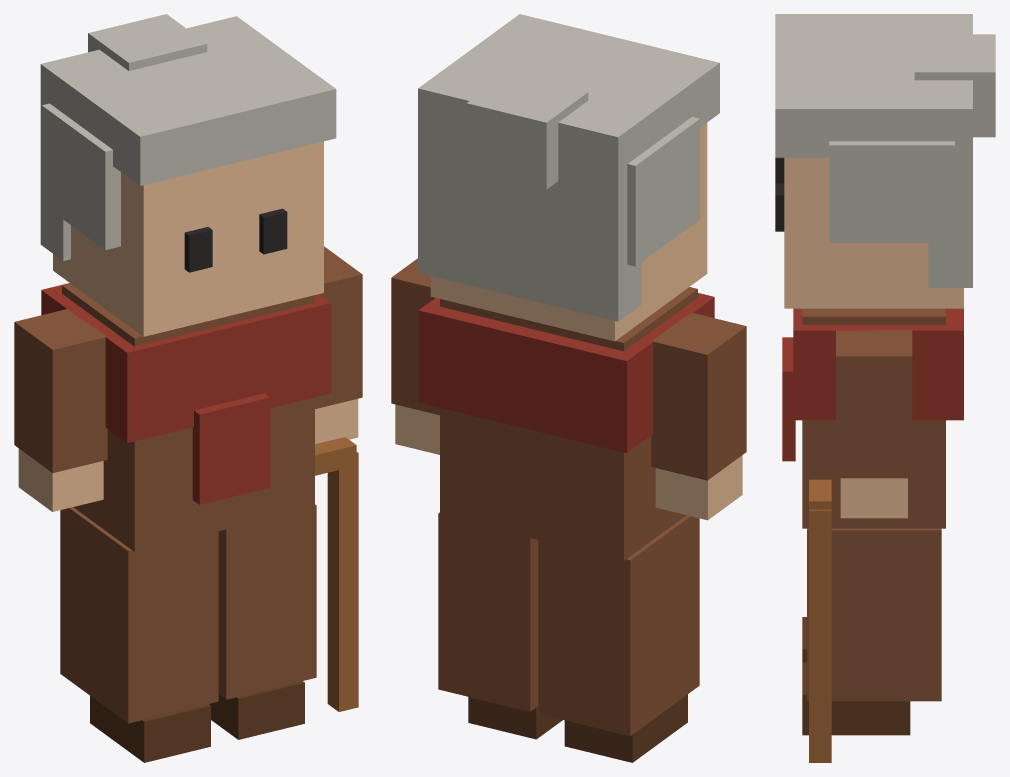
Rendered from H_MedOldWoman.fbx.
The picture shows the model from 3 angles, left to right: view 1: azimuth 30°, elevation 25°; view 2: azimuth 150°, elevation 25°; view 3: azimuth 270°, elevation 25°; orthographic projection. The views are drawn at different scales.
Parts seen in each view (by area): view 1: M_OldWoman; view 2: M_OldWoman; view 3: M_OldWoman.
Boxes of the visible parts, x1=… form: M_OldWoman: x1=14, y1=14, x2=362, y2=762; M_OldWoman: x1=391, y1=14, x2=746, y2=762; M_OldWoman: x1=775, y1=14, x2=995, y2=762.
Bounding box in the file's own units: 0.79 × 1.58 × 0.49.
1 material, 1 textured.
